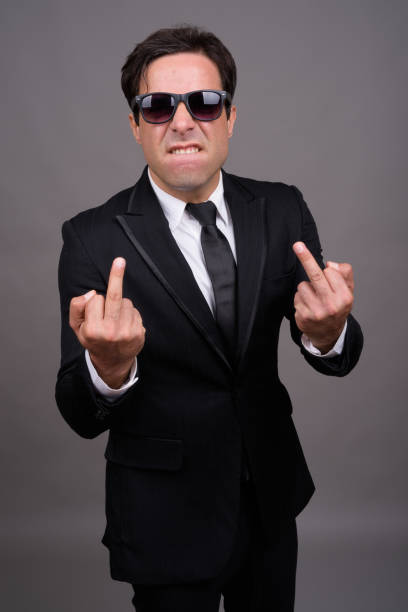insulting_gesture: (65, 252, 147, 367), (290, 239, 355, 345)
